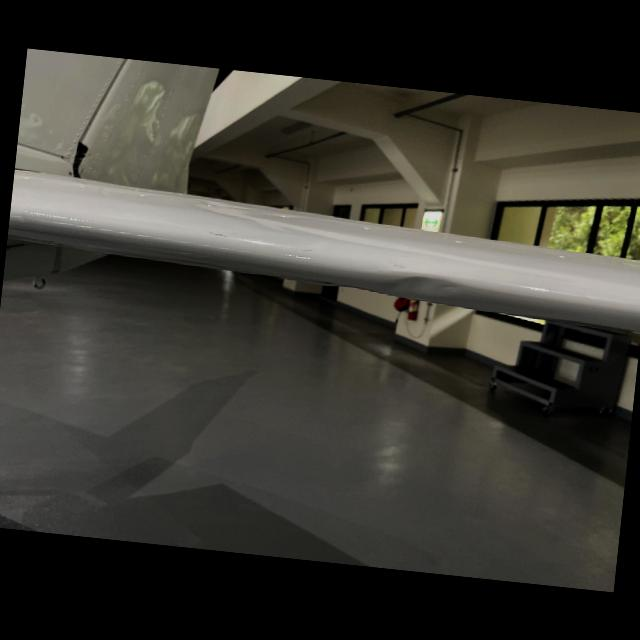dent: (381, 268, 473, 304)
